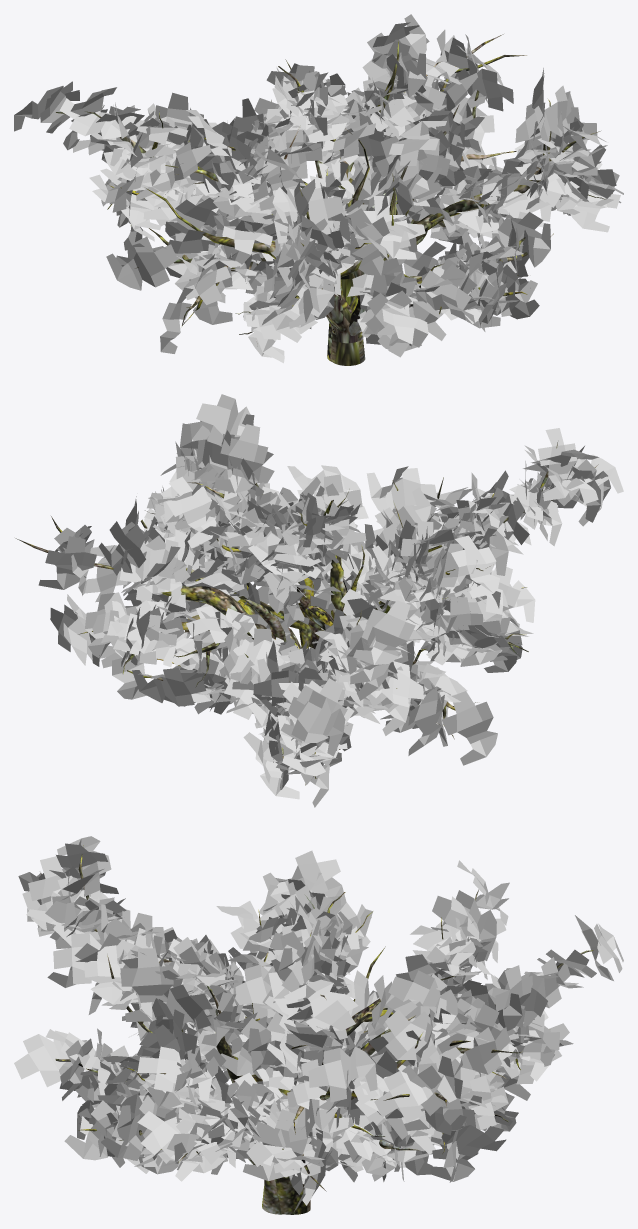
File: m_sakura.fbx
The picture shows the model from 3 angles, top to bottom: view 1: azimuth 30°, elevation 25°; view 2: azimuth 150°, elevation 25°; view 3: azimuth 270°, elevation 25°; orthographic projection. The views are drawn at different scales.
Visible parts, largest first — view 1: sakura3; view 2: sakura3; view 3: sakura3.
Boxes of the visible parts, <box> form: sakura3: <box>14,14,623,365</box>; sakura3: <box>15,394,623,807</box>; sakura3: <box>14,836,623,1214</box>.
Bounding box in the file's own units: 3244 × 2340 × 3866.
